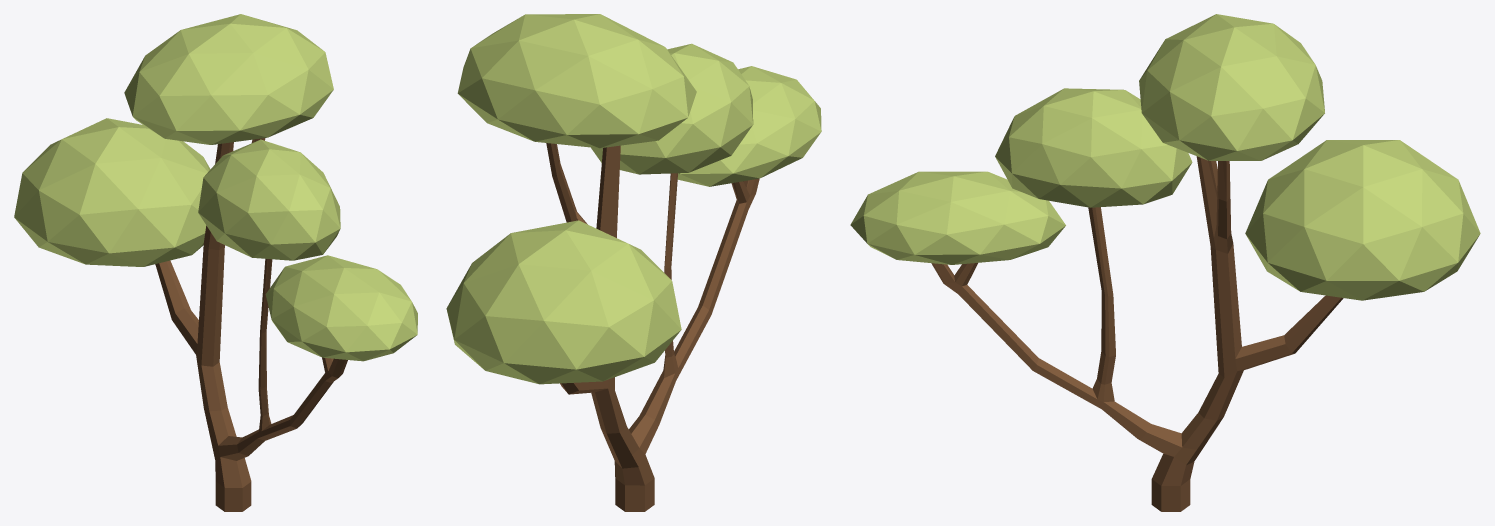
The model's file is tree4.glb.
3 views of the same model, side by side, from view 1: azimuth 30°, elevation 25°; view 2: azimuth 150°, elevation 25°; view 3: azimuth 270°, elevation 25° (orthographic). The views are drawn at different scales.
Visible parts, largest first — view 1: Tree4_Cylinder.003; view 2: Tree4_Cylinder.003; view 3: Tree4_Cylinder.003.
Part boxes in pixels (box(x1,y1,x2,y2)): Tree4_Cylinder.003: box(14, 14, 417, 511); Tree4_Cylinder.003: box(446, 14, 821, 511); Tree4_Cylinder.003: box(850, 14, 1480, 511).
Bounding box in the file's own units: 3.77 × 6.85 × 7.96.
